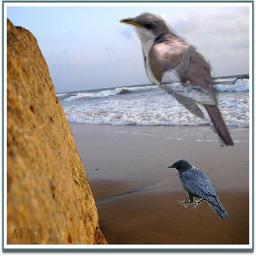Crow: (166, 159, 229, 220)
Cuckoo: (117, 10, 234, 151)
